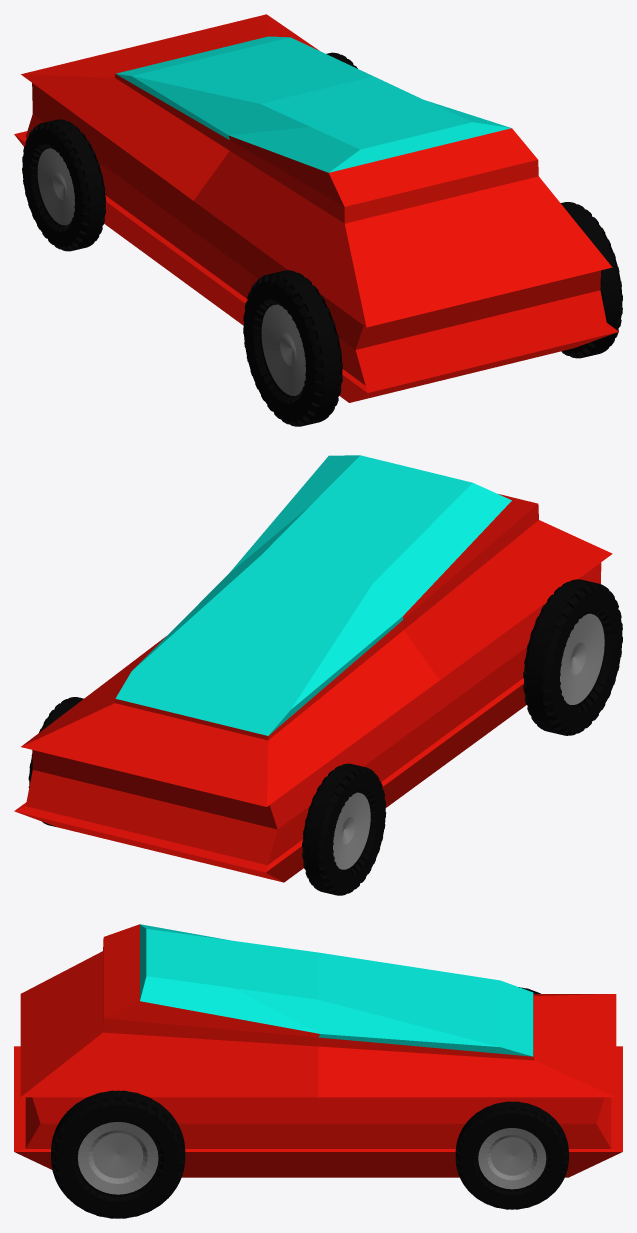
Rendered from CarModel.fbx.
3 views of the same model, one above another, from view 1: azimuth 30°, elevation 25°; view 2: azimuth 150°, elevation 25°; view 3: azimuth 270°, elevation 25° (orthographic). The views are drawn at different scales.
Parts seen in each view (by area): view 1: CarBody, Wheel_Back_L, Wheel_Front_L, Wheel_Back_R; view 2: CarBody, Wheel_Back_L, Wheel_Front_L; view 3: CarBody, Wheel_Back_R, Wheel_Front_R.
Part boxes in pixels (box(x1,y1,x2,y2)): CarBody: box(14, 14, 618, 402); Wheel_Back_L: box(243, 270, 342, 426); Wheel_Front_L: box(22, 119, 106, 251); Wheel_Back_R: box(560, 202, 622, 358); CarBody: box(14, 455, 612, 882); Wheel_Back_L: box(523, 579, 622, 735); Wheel_Front_L: box(302, 763, 386, 895); CarBody: box(14, 924, 622, 1177); Wheel_Back_R: box(51, 1090, 185, 1218); Wheel_Front_R: box(455, 1101, 568, 1209).
Size of the model in its own units: 130 by 95.49 by 258.
